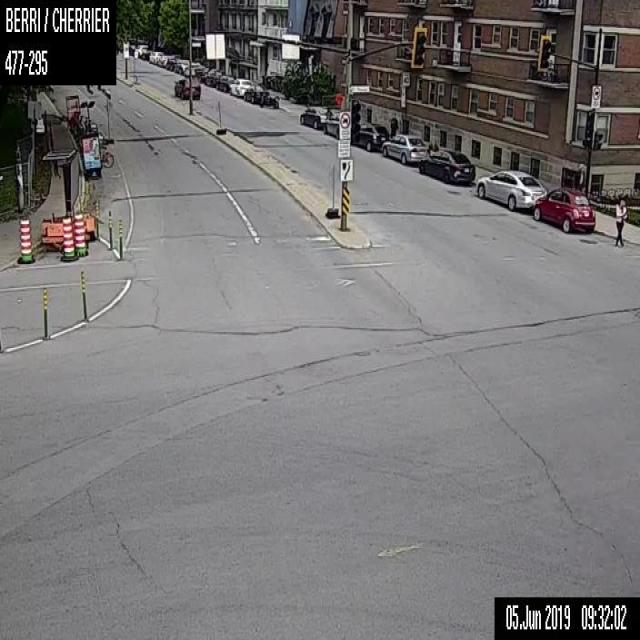construction: (41, 118, 93, 254), (326, 167, 338, 217), (73, 211, 86, 257), (18, 216, 31, 261), (62, 215, 74, 260), (213, 98, 226, 134), (81, 268, 86, 319), (117, 214, 122, 258), (42, 287, 46, 340), (107, 209, 112, 248), (335, 92, 342, 105)
pedestrian: (614, 198, 626, 245), (390, 112, 398, 136)
vehicle: (533, 187, 595, 232), (476, 169, 546, 208), (418, 148, 475, 184), (381, 134, 428, 164), (351, 122, 389, 150), (299, 106, 328, 128), (173, 76, 200, 98), (243, 83, 269, 103), (230, 77, 252, 96), (323, 109, 339, 135), (203, 68, 222, 86), (216, 74, 235, 91), (260, 93, 279, 107), (183, 62, 200, 76), (166, 56, 180, 71), (194, 66, 207, 82), (175, 58, 188, 74), (135, 44, 152, 56), (149, 51, 163, 63), (157, 54, 169, 66)
